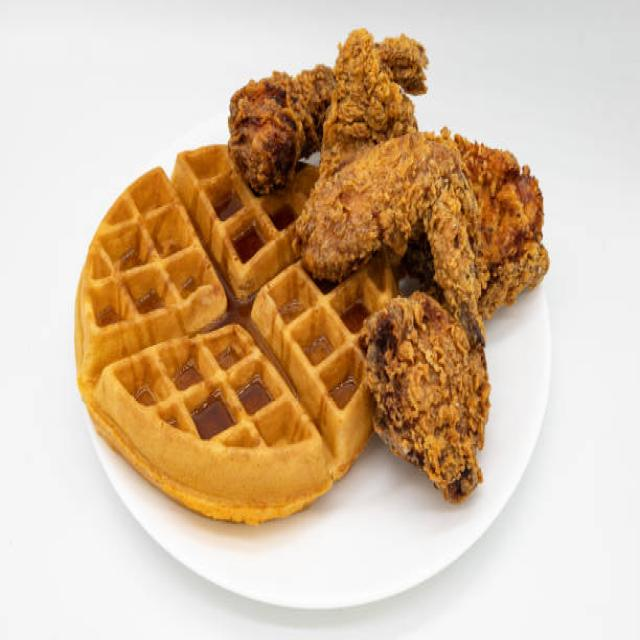Frango: (228, 28, 552, 502)
